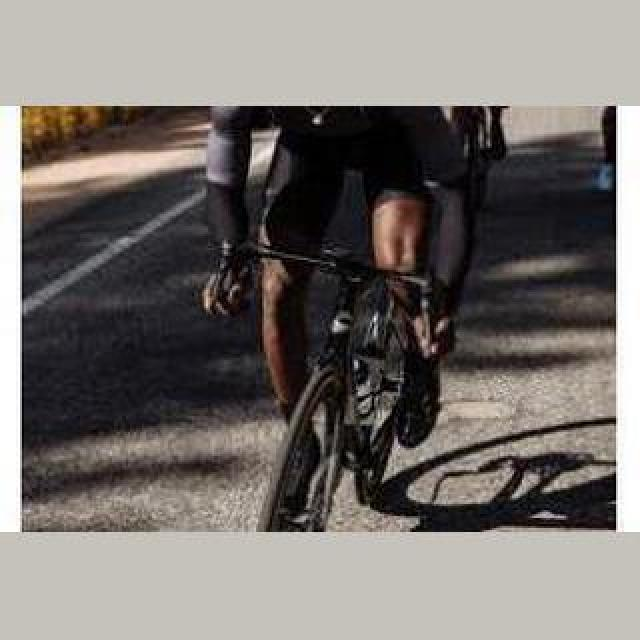MC-Bike: (208, 114, 464, 528)
Person: (264, 238, 458, 530)
